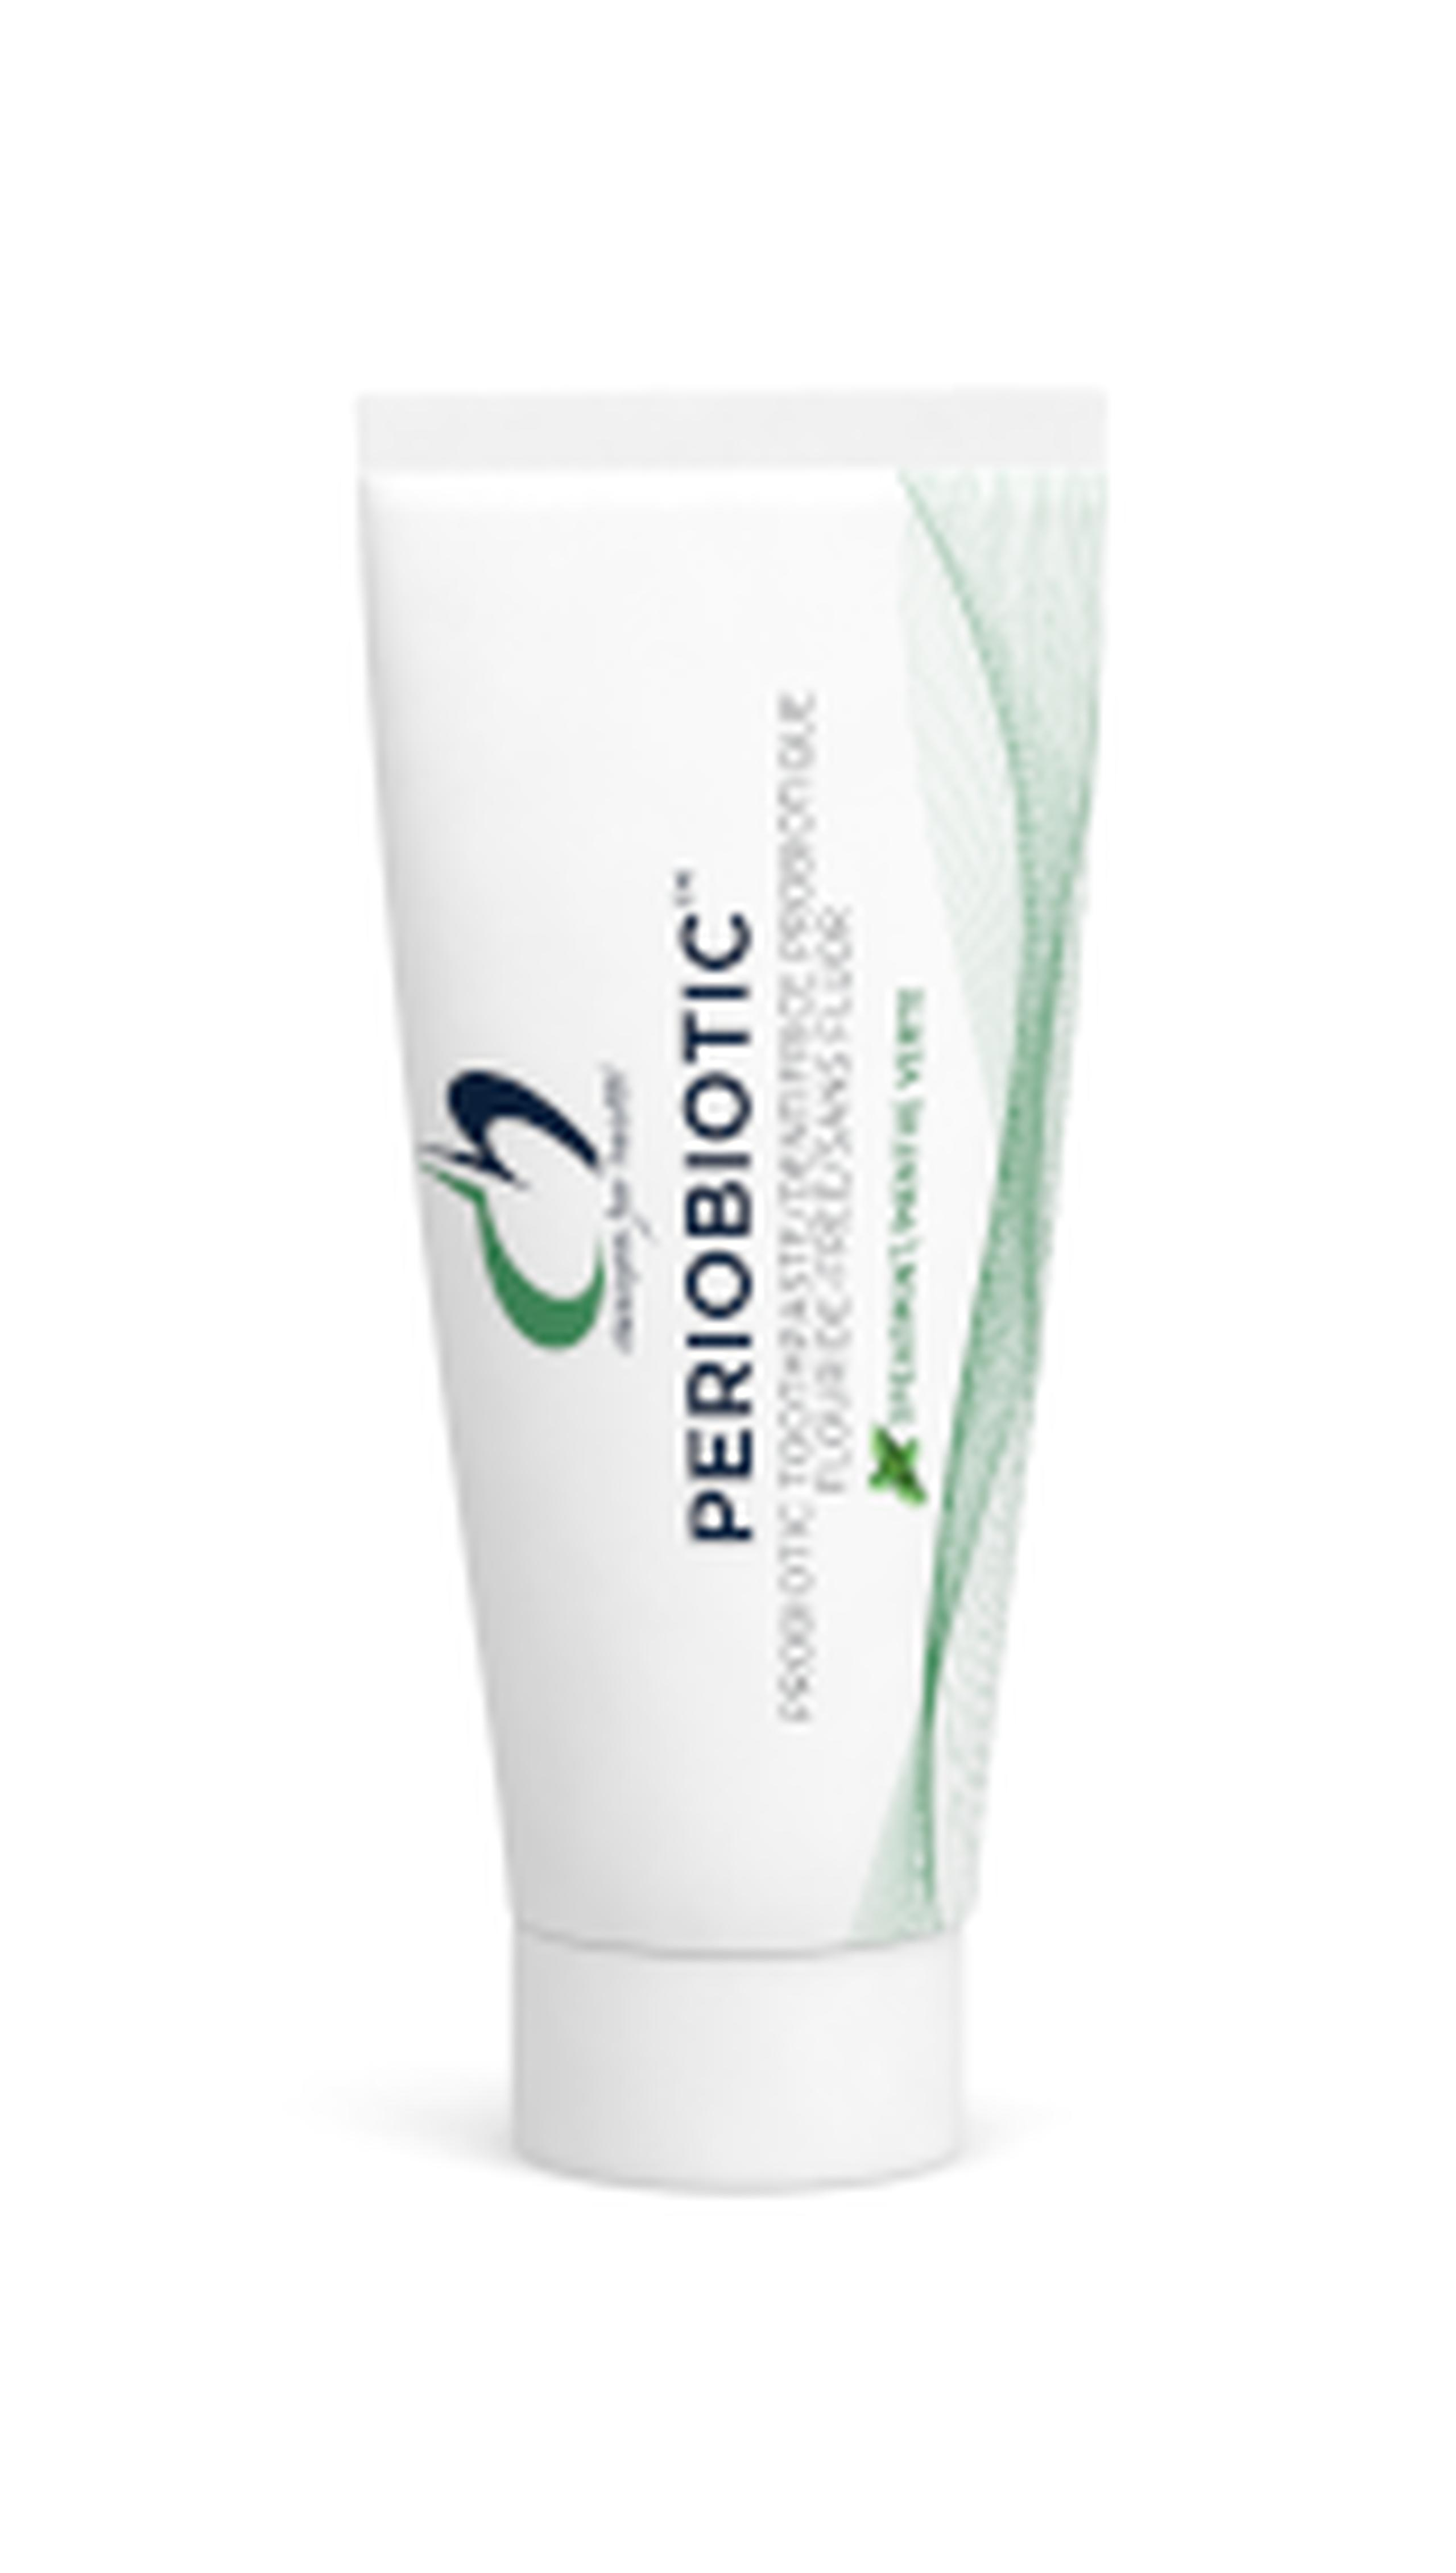toothpaste: (346, 318, 1111, 2273)
